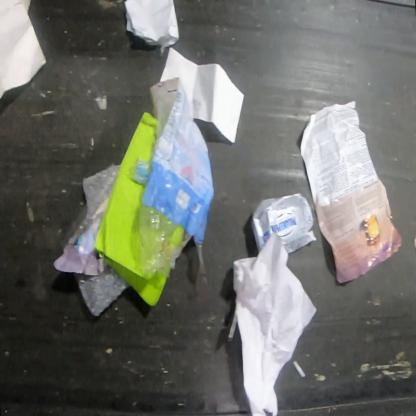cardboard: (249, 193, 317, 255)
soft_plastic: (124, 77, 215, 280), (52, 162, 132, 318)
